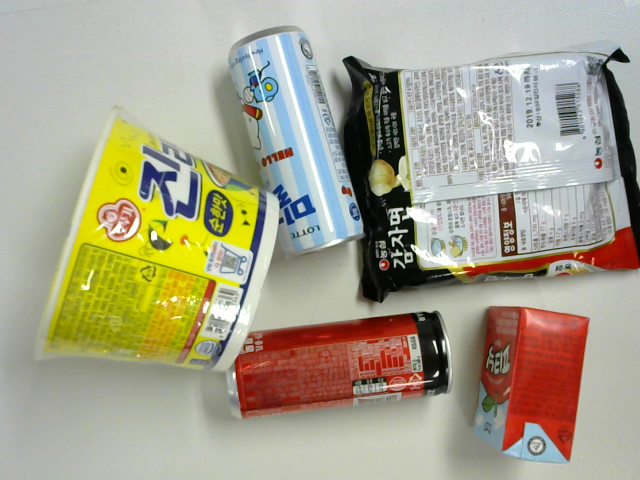Coca_Cola_Zero_Can_250ml: (219, 311, 463, 425)
Jinlamyeon_Mild_Taste_Large_Cup: (28, 113, 290, 379)
Milkies_250ml: (218, 21, 379, 263)
Picnic_Apple: (463, 297, 595, 470)
Potato: (363, 41, 631, 282)
